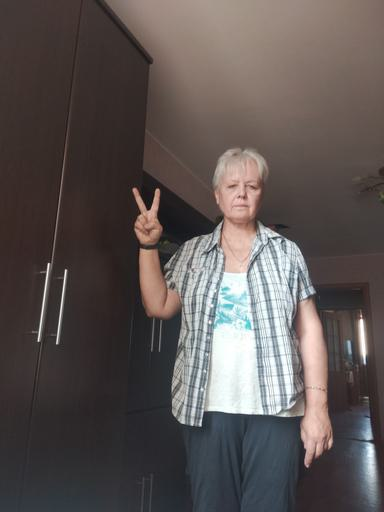peace: (130, 185, 165, 248)
